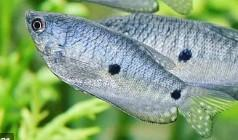Gourami: (24, 8, 227, 138), (96, 13, 238, 100)
